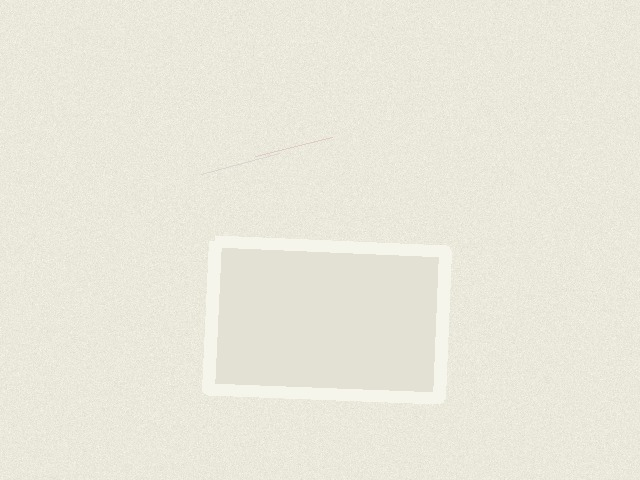parking_area: (208, 241, 445, 398)
